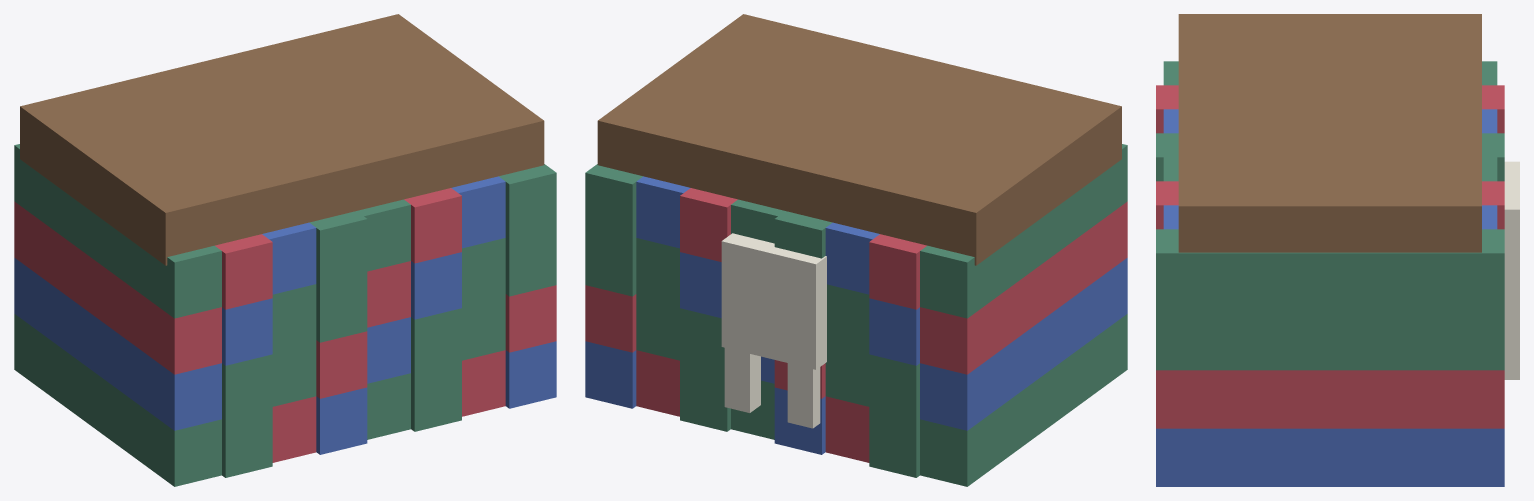
File: kilt_saia.glb
3 renders of one model, left to right at view 1: azimuth 30°, elevation 25°; view 2: azimuth 150°, elevation 25°; view 3: azimuth 270°, elevation 25°, orthographic. The views are drawn at different scales.
Visible parts, largest first — view 1: kilt_saia; view 2: kilt_saia; view 3: kilt_saia.
Boxes of the visible parts, bbox=[...] form: kilt_saia: bbox=[14, 14, 556, 486]; kilt_saia: bbox=[585, 14, 1127, 486]; kilt_saia: bbox=[1156, 14, 1519, 486].
Size of the model in its own units: 0.6025 by 0.4075 by 0.48.
